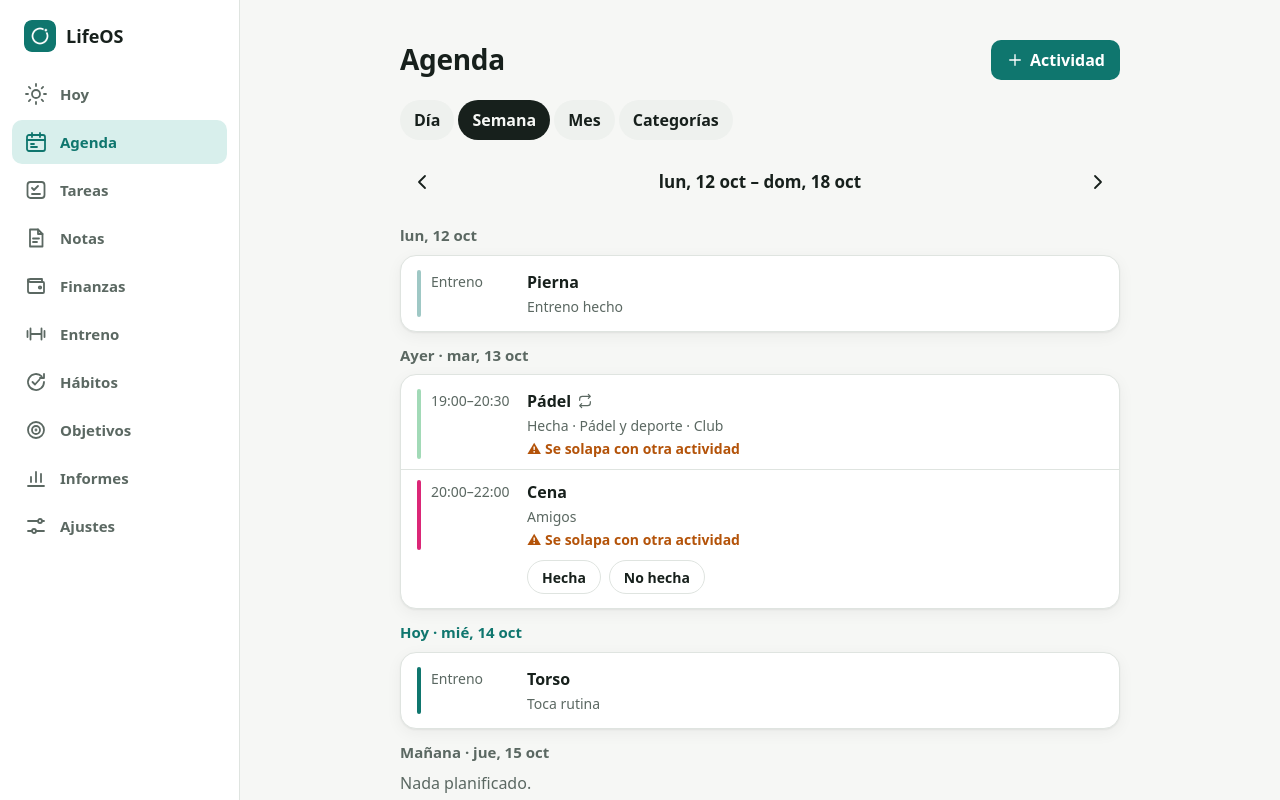
Test: agenda › muestra la semana con entrenos, avisos de solapamiento y el resumen, y marca lo hecho
Check: the list item that starts with "Pádel" shows "Hecha · Pádel y deporte · Club", box [401,379,1119,469]
Check: the list item that starts with "Cena" is shown, box [401,470,1119,560]
Step 1. Click the button with aria-label "Marcar «Cena» como hecha" → (564, 577), box [527,560,601,594]
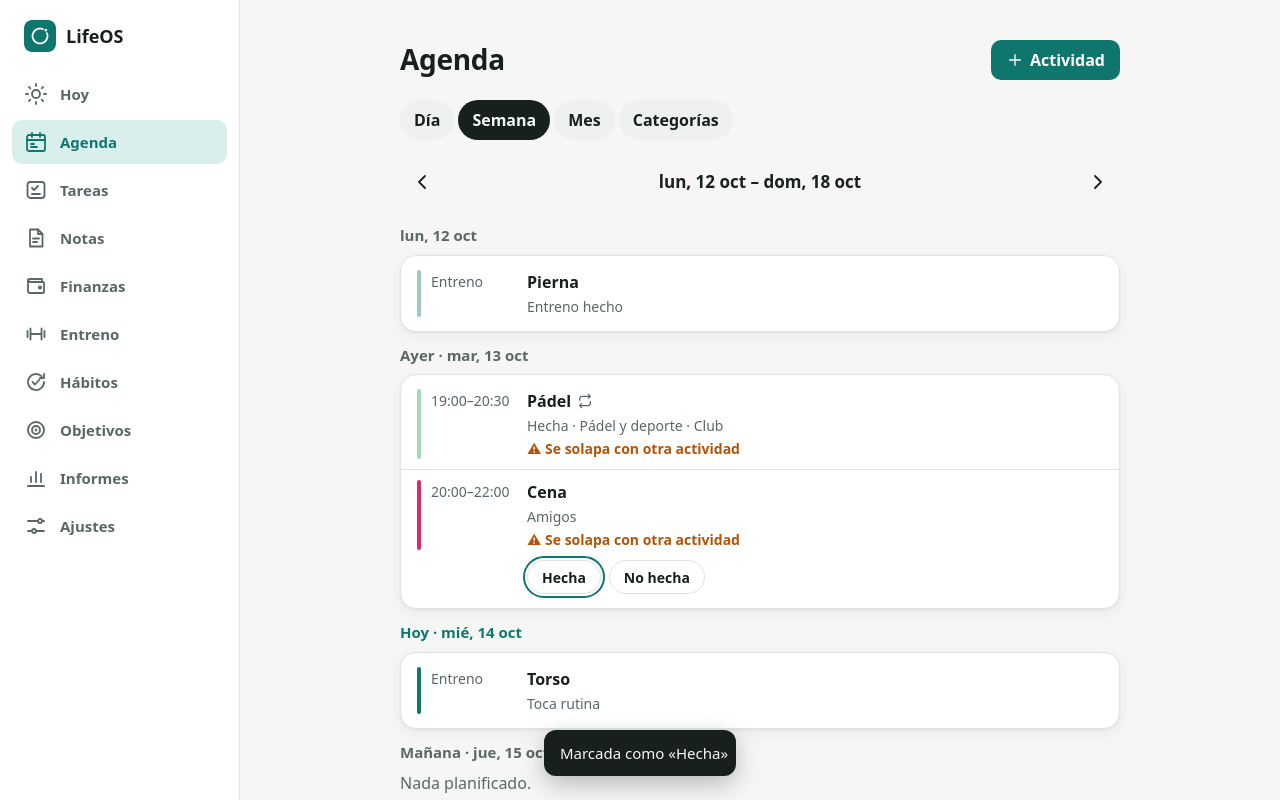
Check: the text "Marcada como «Hecha»" is shown, box [560,742,728,764]
